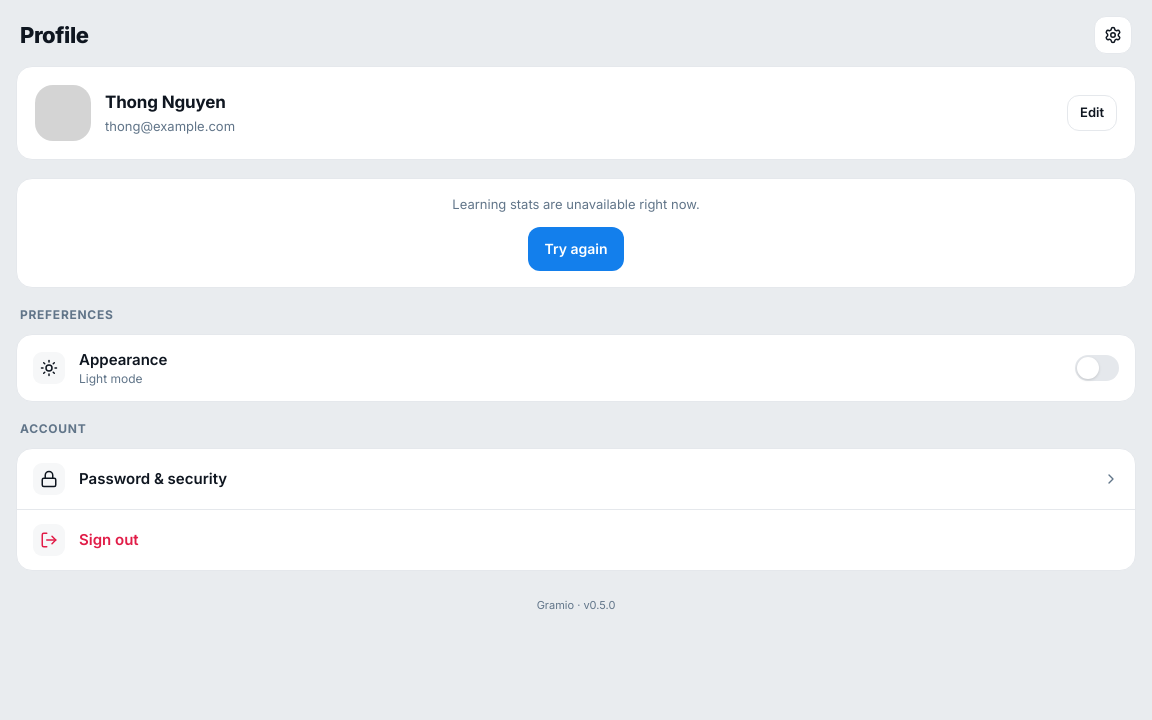
Profile › shows an explicit unavailable state and retries the summary request
Expected: the message reads "Learning stats are unavailable right now.", [452, 196, 700, 212]
Click the button "Try again".
click(576, 248)  # box [528, 226, 624, 270]
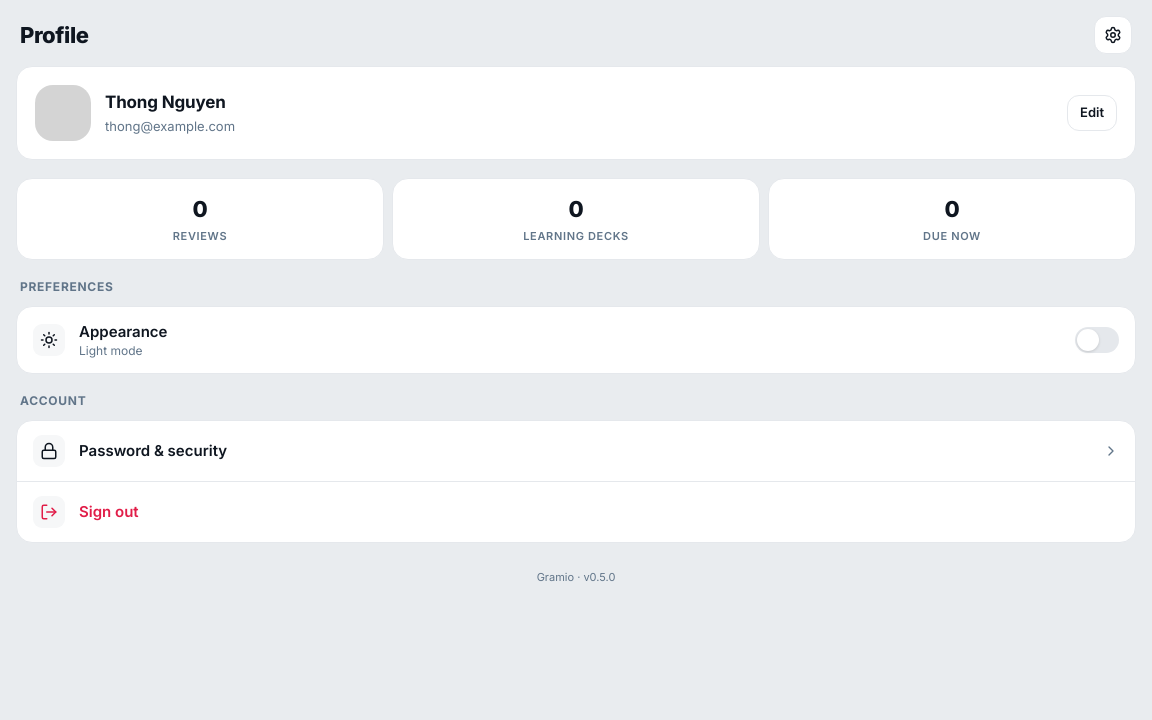
Expected: the text "Reviews" is shown, [173, 229, 227, 243]
